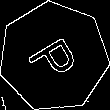P_NE: (23, 28, 85, 86)
